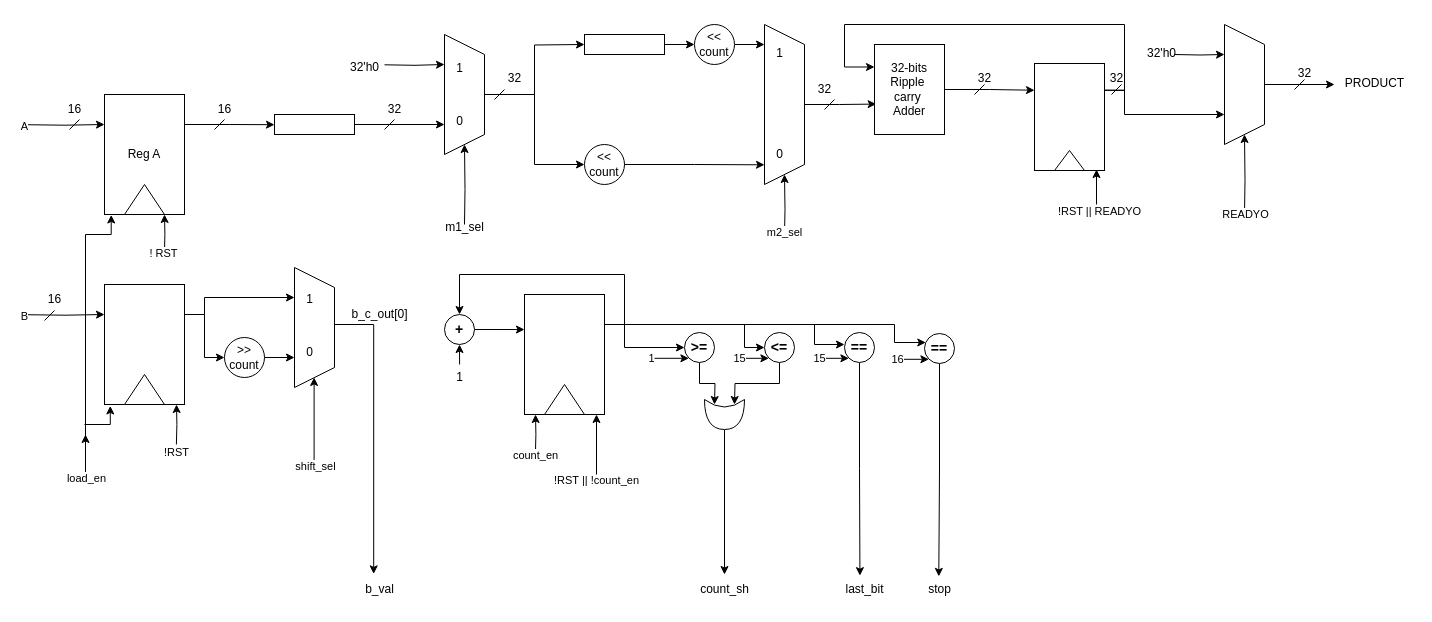
Some shapes in this 1432 by 622 pixel diagram are drawn without their labels. The shapes that lost their labels are listed below. From the top down, each one's box as (x1, y1, x2, y2) in pixels, then its label:
(584, 34, 664, 54): 2 complement
(274, 114, 354, 134): sign extension
(1034, 62, 1104, 170): Pre product
(104, 284, 184, 404): Reg B
(524, 294, 604, 414): 5-bits counter reg
